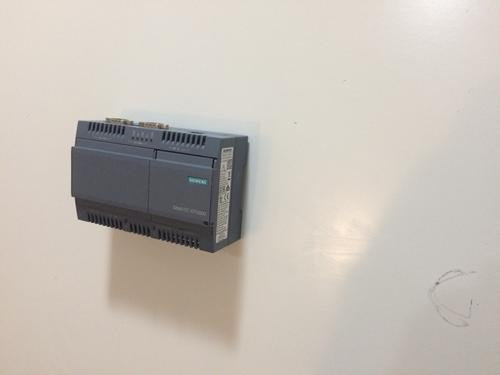iot2000: (70, 117, 250, 255)
